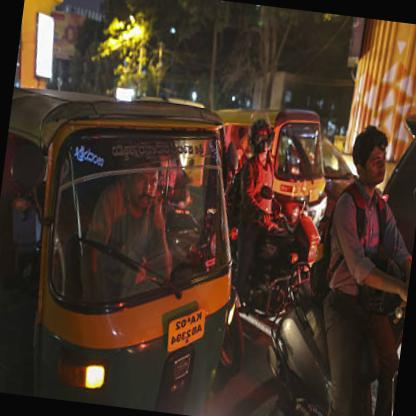motorcycle: (254, 116, 415, 415), (216, 112, 332, 321)
